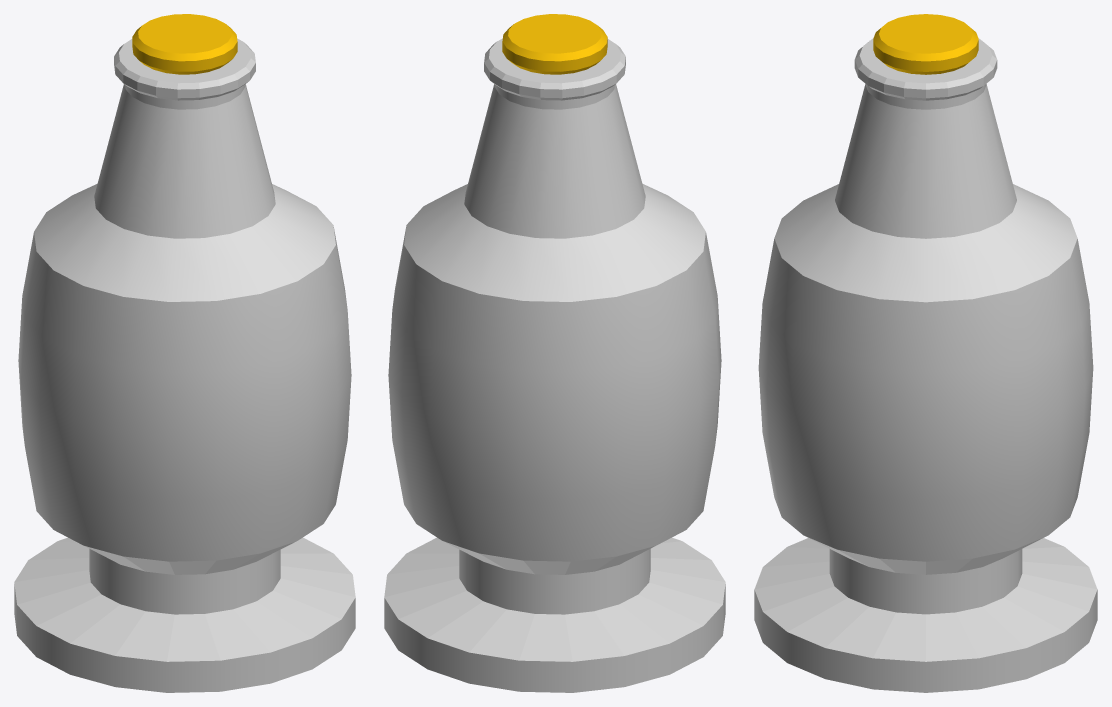
Rendered from potion.fbx.
The picture shows the model from 3 angles, left to right: view 1: azimuth 30°, elevation 25°; view 2: azimuth 150°, elevation 25°; view 3: azimuth 270°, elevation 25°; orthographic projection.
Visible parts, largest first — view 1: polySurface4; view 2: polySurface4; view 3: polySurface4.
Part boxes in pixels (<box>): polySurface4: <box>14,14,355,692</box>; polySurface4: <box>384,14,725,692</box>; polySurface4: <box>754,14,1097,692</box>.
Bounding box in the file's own units: 2 × 3.77 × 2.
